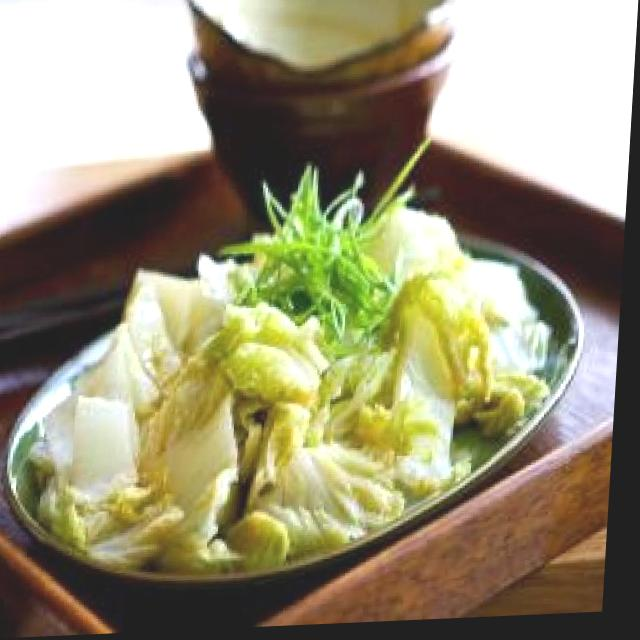chinese_cabbage: (39, 253, 547, 561)
